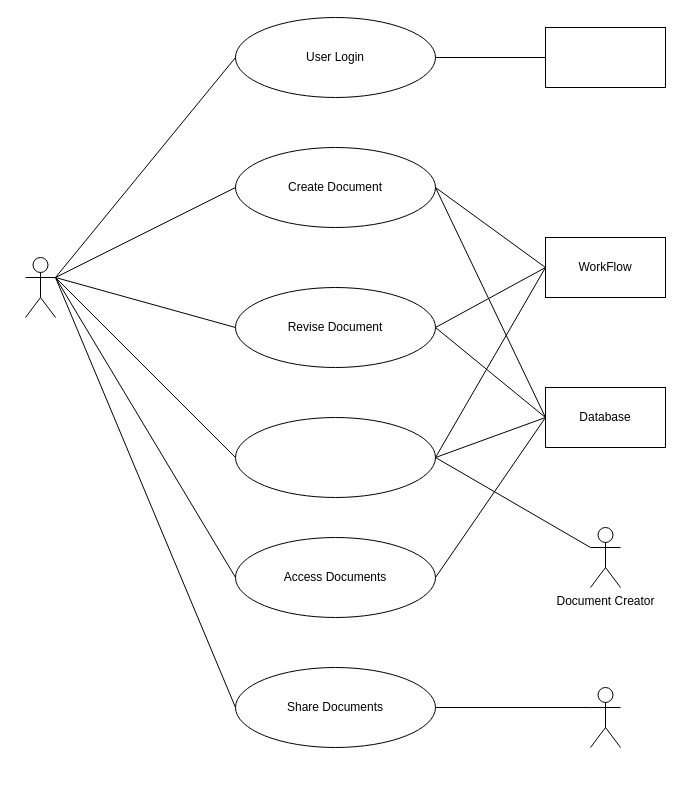
This 683x786 diagram has some shape labels left out. Here are the shapes that lost their labels. From the top down, the box of each, then its label:
(544, 26, 666, 88): Access Control
(24, 256, 56, 318): Manager
(234, 416, 436, 498): Approve Revisions
(590, 686, 620, 748): Collaborator
